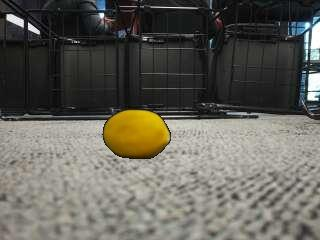lemon: (104, 110, 170, 159)
